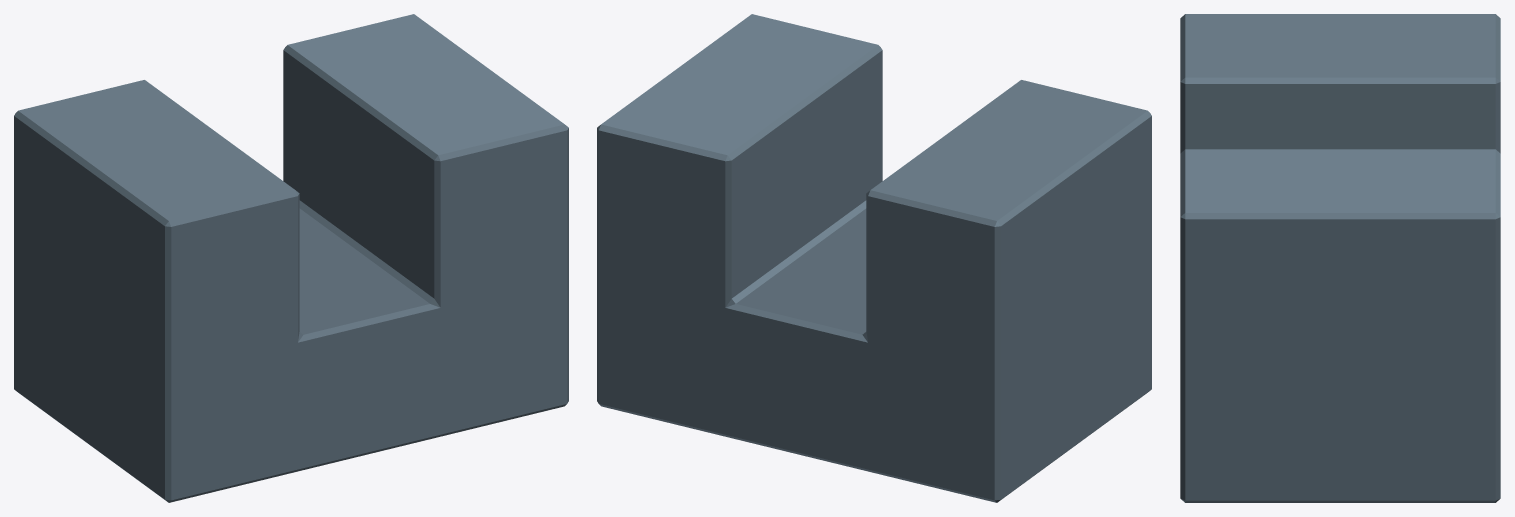
The model's file is P50_Notched_Block.fbx.
3 views of the same model, side by side, from view 1: azimuth 30°, elevation 25°; view 2: azimuth 150°, elevation 25°; view 3: azimuth 270°, elevation 25° (orthographic). The views are drawn at different scales.
Parts seen in each view (by area): view 1: P50_Notched_Block; view 2: P50_Notched_Block; view 3: P50_Notched_Block.
Part boxes in pixels (x1,y1,x2,y2): P50_Notched_Block: (14,14,568,502); P50_Notched_Block: (597,14,1151,502); P50_Notched_Block: (1180,14,1500,502).
Size of the model in its own units: 1.5 by 1 by 1.
Materials: 1 (1 with a texture image).
